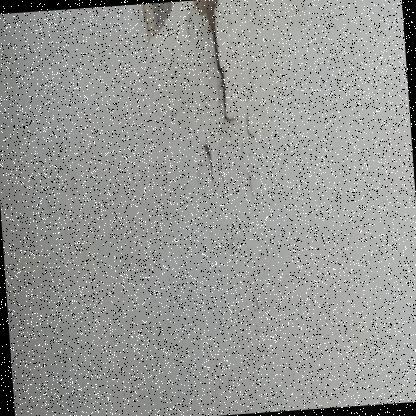Crack: (101, 0, 297, 236)
